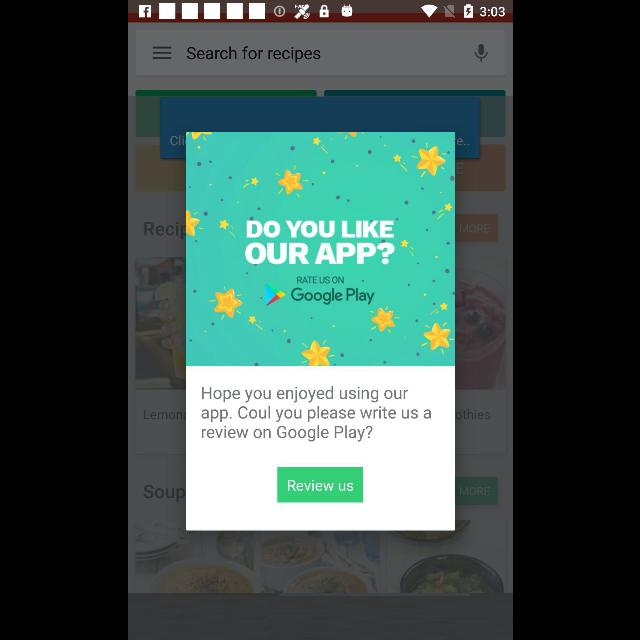icon: (152, 46, 170, 60), (474, 44, 486, 62)
image: (186, 132, 454, 366)
panel: (185, 133, 455, 531)
text: (200, 382, 430, 442), (186, 47, 320, 63)
textbutton: (277, 468, 363, 502)
uppertaskbar: (128, 1, 512, 23)
